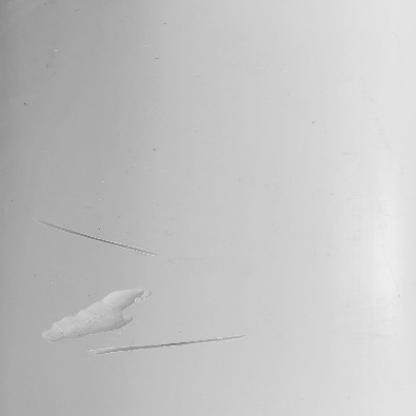sunshang: (31, 289, 140, 341), (39, 220, 158, 256), (85, 333, 246, 359)
